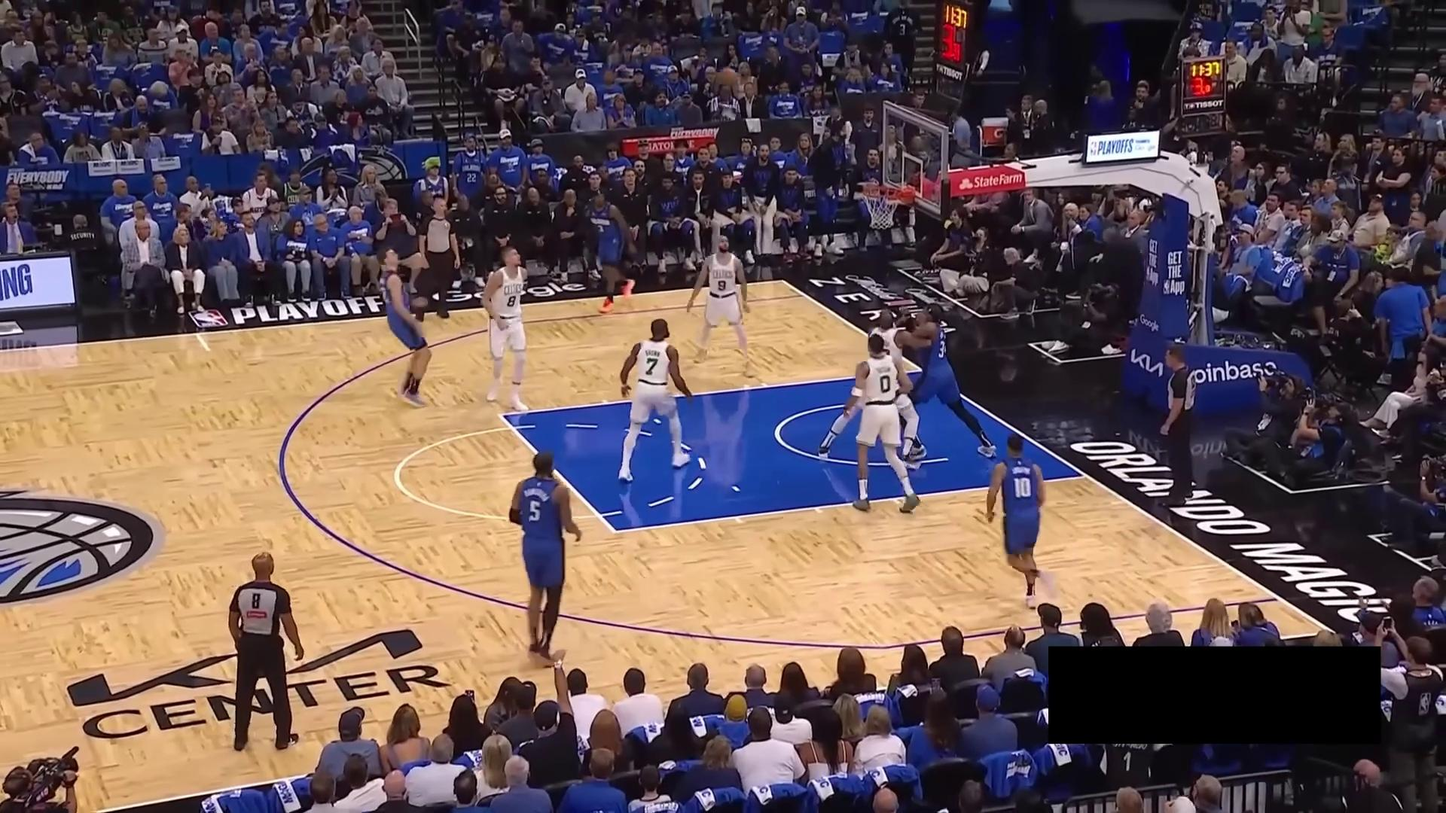ball: (717, 65, 738, 86)
number: (1014, 477, 1032, 498), (529, 500, 541, 522), (879, 374, 891, 394), (645, 358, 658, 375), (939, 339, 948, 358), (506, 294, 517, 309), (717, 279, 727, 292), (597, 224, 604, 233)
player: (817, 307, 933, 465), (507, 449, 582, 668), (901, 303, 999, 466), (843, 334, 920, 513), (617, 318, 700, 483), (984, 433, 1060, 611), (685, 233, 757, 379), (374, 245, 434, 409), (480, 246, 532, 413), (590, 187, 639, 314)
referee: (228, 551, 304, 752), (1158, 343, 1200, 507), (416, 194, 462, 320)
rim: (860, 184, 903, 199)
